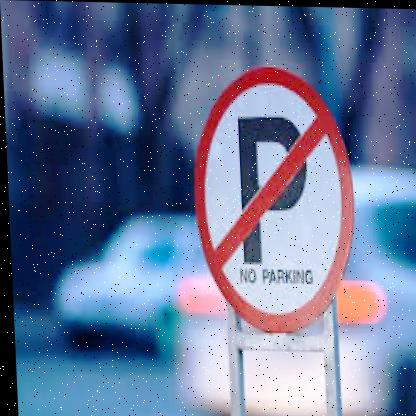No parking: (187, 59, 360, 342)
